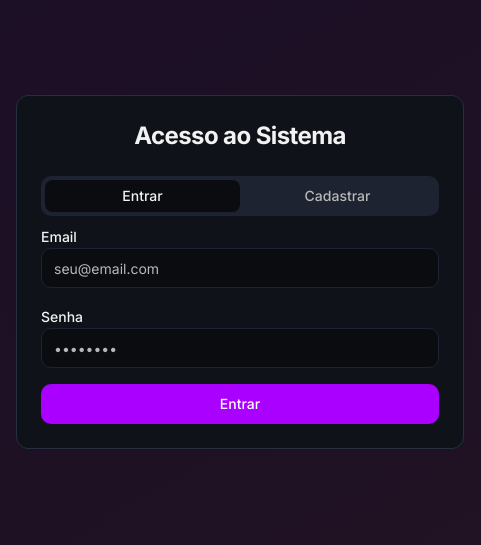
Scenario: Auth Page › Tab switching › should switch to signup form when clicking Cadastrar tab
Click the tab "Cadastrar" at (338, 196), box x1=240 y1=180 x2=435 y2=212
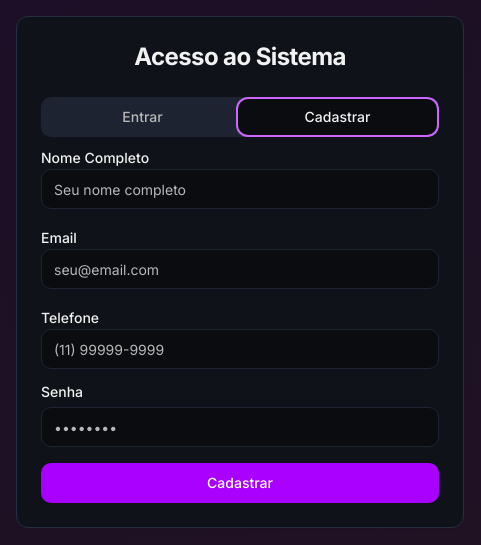
Expected: the field with placeholder "Seu nome completo" is shown, x1=41 y1=169 x2=439 y2=209
